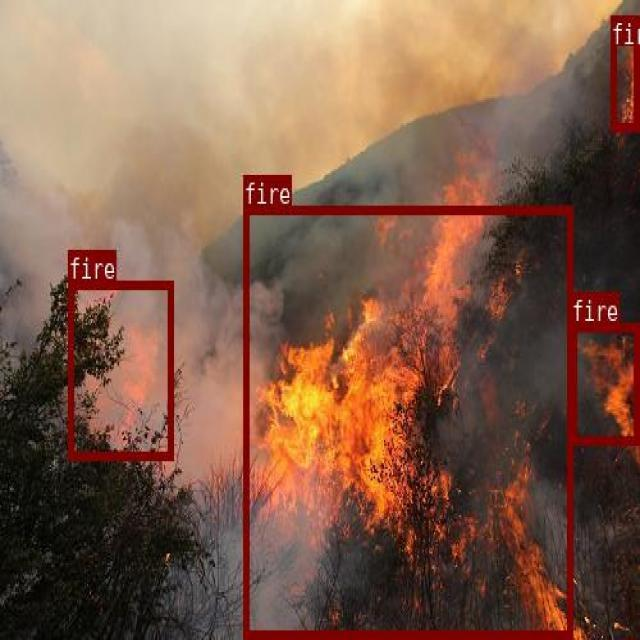fire: (242, 205, 571, 636), (67, 280, 172, 459), (570, 322, 637, 442), (610, 14, 638, 129)
